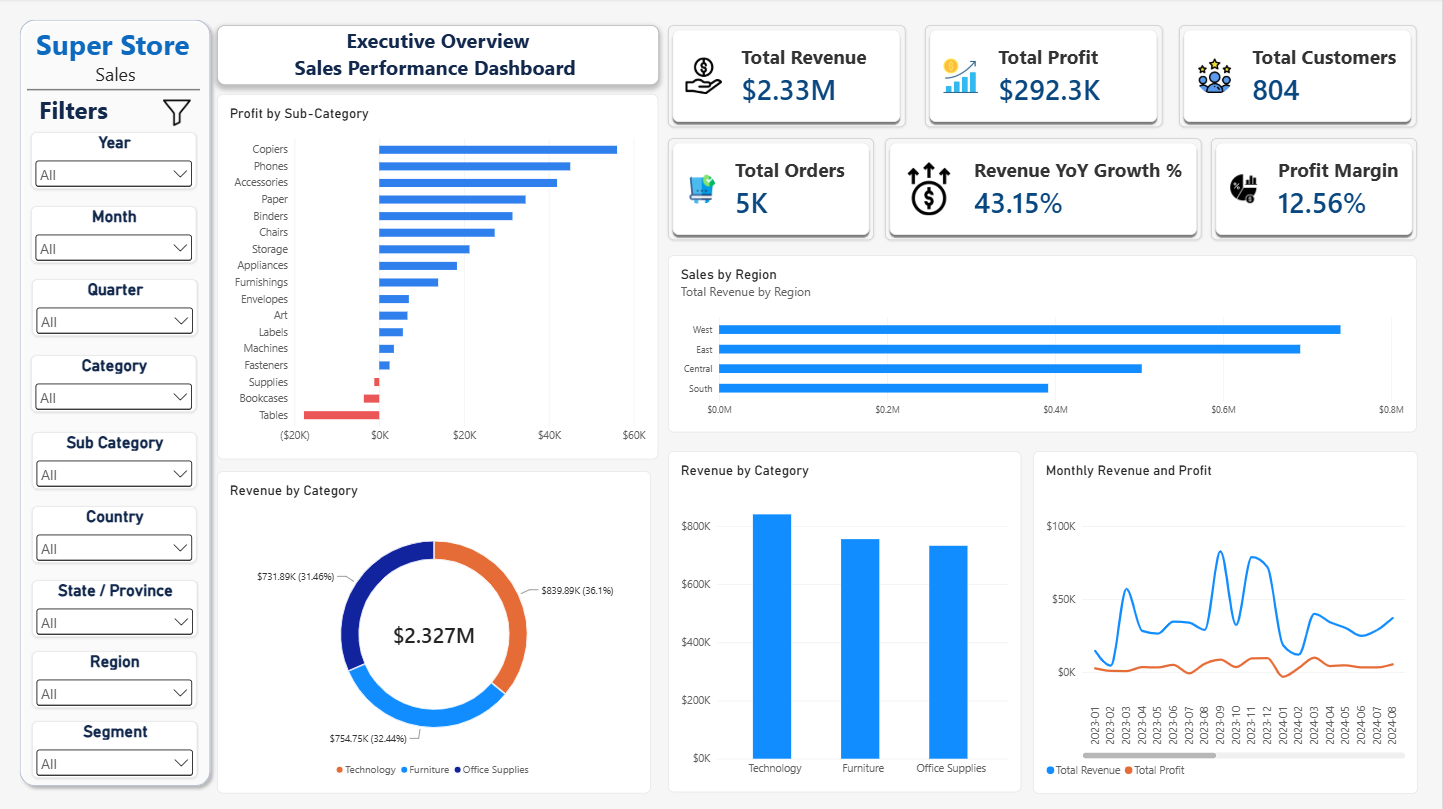

The dashboard page shown, as its layout file describes it:
{"tool":"powerbi","page":{"name":"Executive Overview","canvas":[1920,1080],"ordinal":0},"visuals":[{"type":"shape","box":[20,20,271.4,1037.1],"z":0},{"type":"textbox","box":[35.7,125.7,128.6,52.9],"z":1000},{"type":"textbox","box":[291.4,35.7,587.5,80],"z":2000},{"type":"cardVisual","fields":{"Data":["fact_Sales.Total Revenue"]},"box":[891.4,35.7,315.7,135.7],"z":3000},{"type":"lineChart","title":"Monthly Revenue and Profit","fields":{"Category":["dim_Date.Year_Month"],"Y":["fact_Sales.Total Revenue","fact_Sales.Total Profit"]},"box":[1375.7,602.9,544.3,454.3],"z":4000},{"type":"donutChart","title":"Revenue by Category","fields":{"Category":["dim_Product.Category"],"Y":["fact_Sales.Total Revenue"]},"box":[291.4,628.6,577.1,428.6],"z":5000},{"type":"clusteredBarChart","title":"Profit by Sub-Category","fields":{"Category":["dim_Product.Sub_Category"],"Y":["fact_Sales.Total Profit"]},"box":[291.4,127.1,587.1,485.7],"z":6000},{"type":"barChart","title":"Sales by Region","fields":{"Category":["dim_Geography.Region"],"Y":["fact_Sales.Total Revenue"]},"box":[891.4,341.4,995.7,235.7],"z":7000},{"type":"clusteredColumnChart","title":"Revenue by Category","fields":{"Category":["dim_Product.Category"],"Y":["fact_Sales.Total Revenue"]},"box":[891.4,602.9,470,454.3],"z":8000},{"type":"slicer","title":"Year","fields":{"Values":["dim_Date.Year"]},"box":[44.3,178.6,220,75.7],"z":9000},{"type":"textbox","box":[30,35.7,251.4,85.7],"z":10000},{"type":"shape","box":[38.6,100,230,44.3],"z":11000},{"type":"image","box":[220,127.1,37.1,50],"z":12000},{"type":"slicer","title":"Month","fields":{"Values":["dim_Date.Month_Name"]},"box":[44.3,277.1,220,75.7],"z":13000},{"type":"slicer","title":"Quarter","fields":{"Values":["dim_Date.Quarter"]},"box":[45.7,374.3,220,75.7],"z":14000},{"type":"slicer","title":"Category","fields":{"Values":["dim_Product.Category"]},"box":[44.3,474.3,220,75.7],"z":15000},{"type":"slicer","title":"Sub Category","fields":{"Values":["dim_Product.Sub_Category"]},"box":[45.7,577.1,218.6,75.7],"z":16000},{"type":"slicer","title":"Country","fields":{"Values":["dim_Geography.Country_Region"]},"box":[45.7,675.7,218.6,75.7],"z":17000},{"type":"slicer","title":"State / Province","fields":{"Values":["dim_Geography.State_Province"]},"box":[45.7,774.3,220,75.7],"z":18000},{"type":"slicer","title":"Region","fields":{"Values":["dim_Geography.Region"]},"box":[45.7,868.6,218.6,75.7],"z":19000},{"type":"slicer","title":"Segment","fields":{"Values":["dim_Customer.Segment"]},"box":[45.7,961.4,220,75.7],"z":20000},{"type":"cardVisual","fields":{"Data":["fact_Sales.Total Profit"]},"box":[1232.9,35.7,315.7,135.7],"z":21000},{"type":"cardVisual","fields":{"Data":["fact_Sales.Profit Margin"]},"box":[1612.9,185.7,274.3,135.7],"z":22000},{"type":"cardVisual","fields":{"Data":["fact_Sales.Total Orders"]},"box":[891.4,185.7,274.3,135.7],"z":23000},{"type":"cardVisual","title":"Revenue Growth","fields":{"Data":["fact_Sales.Revenue YoY Growth %"]},"box":[1180,185.7,421.4,135.7],"z":24000},{"type":"cardVisual","fields":{"Data":["fact_Sales.Total Customers"]},"box":[1571.4,35.7,315.7,135.7],"z":25000}]}

Visuals, with their boxes in screenshot pixels (x1, y1, x2, y2), scaled from the page's 1920x1080 canvas onto the 1443x809 screenshot:
shape: pyautogui.locateOnScreen(15, 15, 219, 792)
textbox: pyautogui.locateOnScreen(27, 94, 123, 134)
textbox: pyautogui.locateOnScreen(219, 27, 661, 87)
cardVisual - fact_Sales.Total Revenue: pyautogui.locateOnScreen(670, 27, 907, 128)
"Monthly Revenue and Profit" lineChart: pyautogui.locateOnScreen(1034, 452, 1442, 792)
"Revenue by Category" donutChart: pyautogui.locateOnScreen(219, 471, 653, 792)
"Profit by Sub-Category" clusteredBarChart: pyautogui.locateOnScreen(219, 95, 660, 459)
"Sales by Region" barChart: pyautogui.locateOnScreen(670, 256, 1418, 432)
"Revenue by Category" clusteredColumnChart: pyautogui.locateOnScreen(670, 452, 1023, 792)
"Year" slicer: pyautogui.locateOnScreen(33, 134, 199, 190)
textbox: pyautogui.locateOnScreen(23, 27, 211, 91)
shape: pyautogui.locateOnScreen(29, 75, 202, 108)
image: pyautogui.locateOnScreen(165, 95, 193, 133)
"Month" slicer: pyautogui.locateOnScreen(33, 208, 199, 264)
"Quarter" slicer: pyautogui.locateOnScreen(34, 280, 200, 337)
"Category" slicer: pyautogui.locateOnScreen(33, 355, 199, 412)
"Sub Category" slicer: pyautogui.locateOnScreen(34, 432, 199, 489)
"Country" slicer: pyautogui.locateOnScreen(34, 506, 199, 563)
"State / Province" slicer: pyautogui.locateOnScreen(34, 580, 200, 637)
"Region" slicer: pyautogui.locateOnScreen(34, 651, 199, 707)
"Segment" slicer: pyautogui.locateOnScreen(34, 720, 200, 777)
cardVisual - fact_Sales.Total Profit: pyautogui.locateOnScreen(927, 27, 1164, 128)
cardVisual - fact_Sales.Profit Margin: pyautogui.locateOnScreen(1212, 139, 1418, 241)
cardVisual - fact_Sales.Total Orders: pyautogui.locateOnScreen(670, 139, 876, 241)
"Revenue Growth" cardVisual: pyautogui.locateOnScreen(887, 139, 1204, 241)
cardVisual - fact_Sales.Total Customers: pyautogui.locateOnScreen(1181, 27, 1418, 128)
